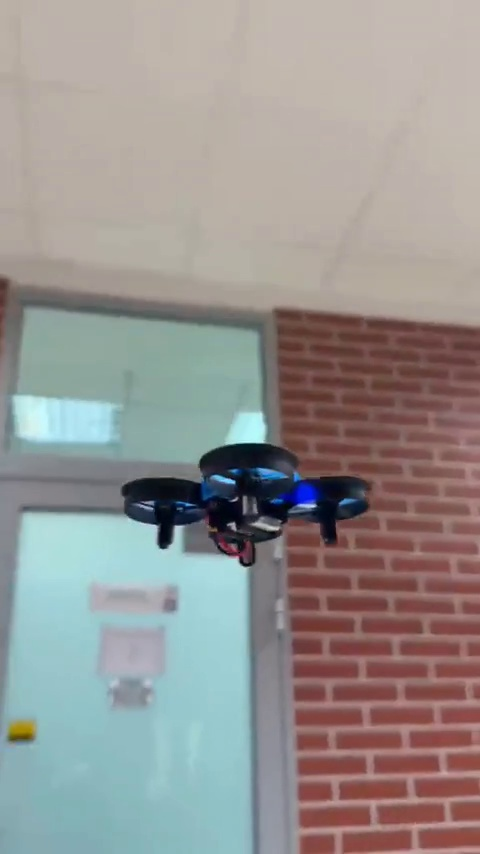drone: (122, 445, 369, 571)
